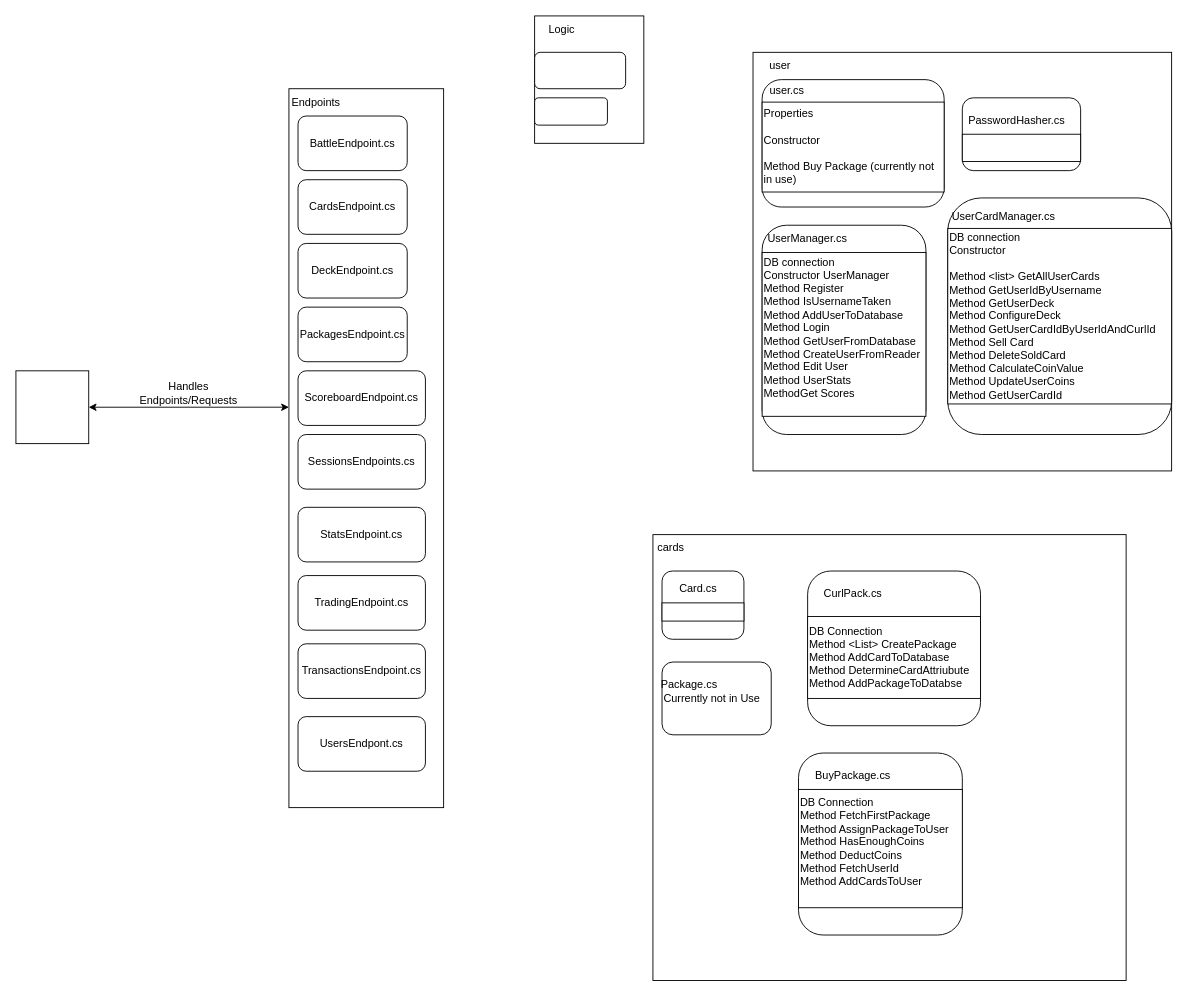
The diagram is 1188 pixels wide and 996 high, and some of its shapes have lost their labels. Each missing label, with the centre of its shape:
Battle.cs: point 570,111
Method HashPassword Method VerifyPassword: point 1021,147
Properties: point 702,611
Server: point 52,407
TradingDeal.cs: point 580,70
